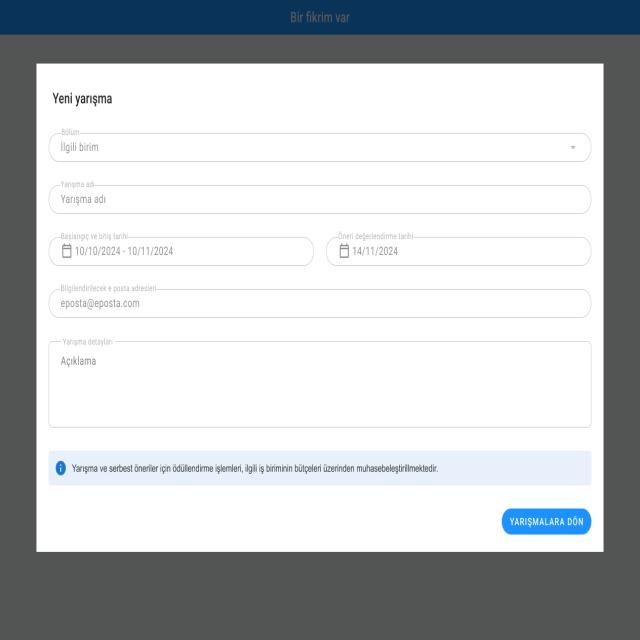QLabel: (70, 461, 438, 474), (50, 90, 113, 108), (508, 516, 584, 528)
VBtn: (502, 508, 592, 536)
VCard: (49, 451, 592, 487)
VCombobox: (49, 128, 592, 164)
VDialog: (37, 63, 604, 553)
VIcon: (54, 459, 68, 477)
VInlineDatepicker: (326, 232, 592, 268), (48, 232, 314, 267)
VTextField: (48, 283, 591, 320), (48, 180, 592, 216)
VTextarea: (48, 337, 591, 429)
